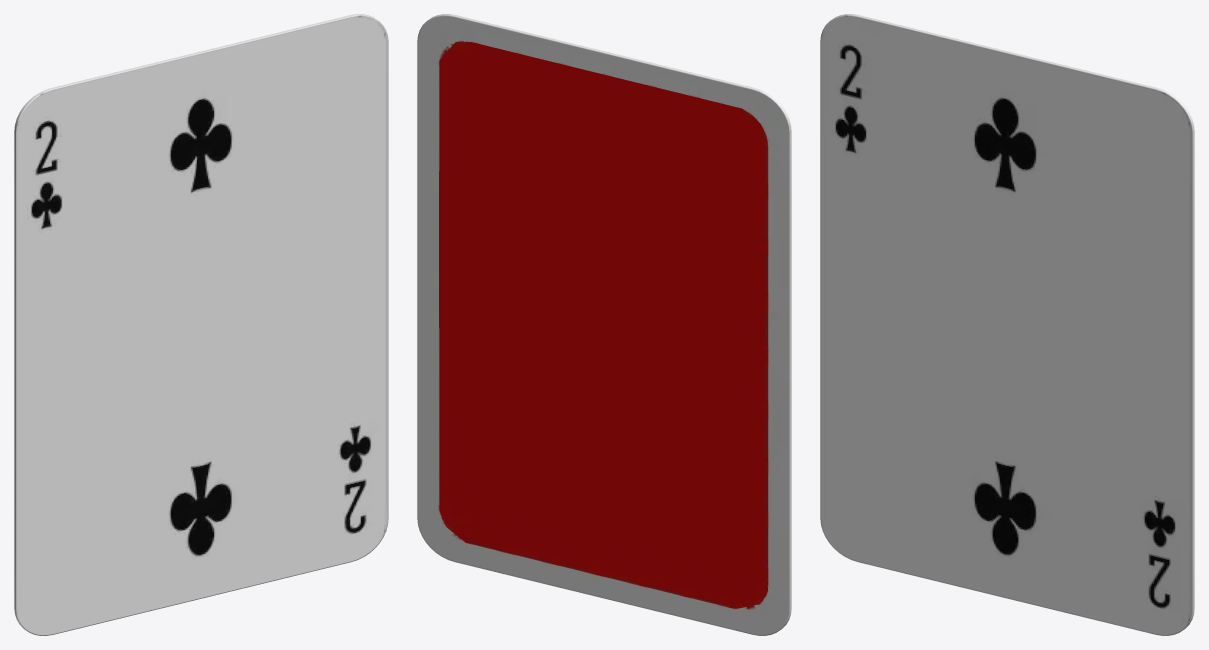
Rendered from clubs_2.glb.
The picture shows the model from 3 angles, left to right: view 1: azimuth 30°, elevation 25°; view 2: azimuth 150°, elevation 25°; view 3: azimuth 330°, elevation 25°; orthographic projection.
Parts seen in each view (by area): view 1: defaultMaterial.022; view 2: defaultMaterial.022; view 3: defaultMaterial.022.
Part boxes in pixels (box(x1,y1,x2,y2)): defaultMaterial.022: box(14, 14, 388, 635); defaultMaterial.022: box(417, 14, 791, 635); defaultMaterial.022: box(820, 14, 1194, 635).
Size of the model in its own units: 0.1408 by 0.1972 by 0.00111.
1 material, 1 textured.
